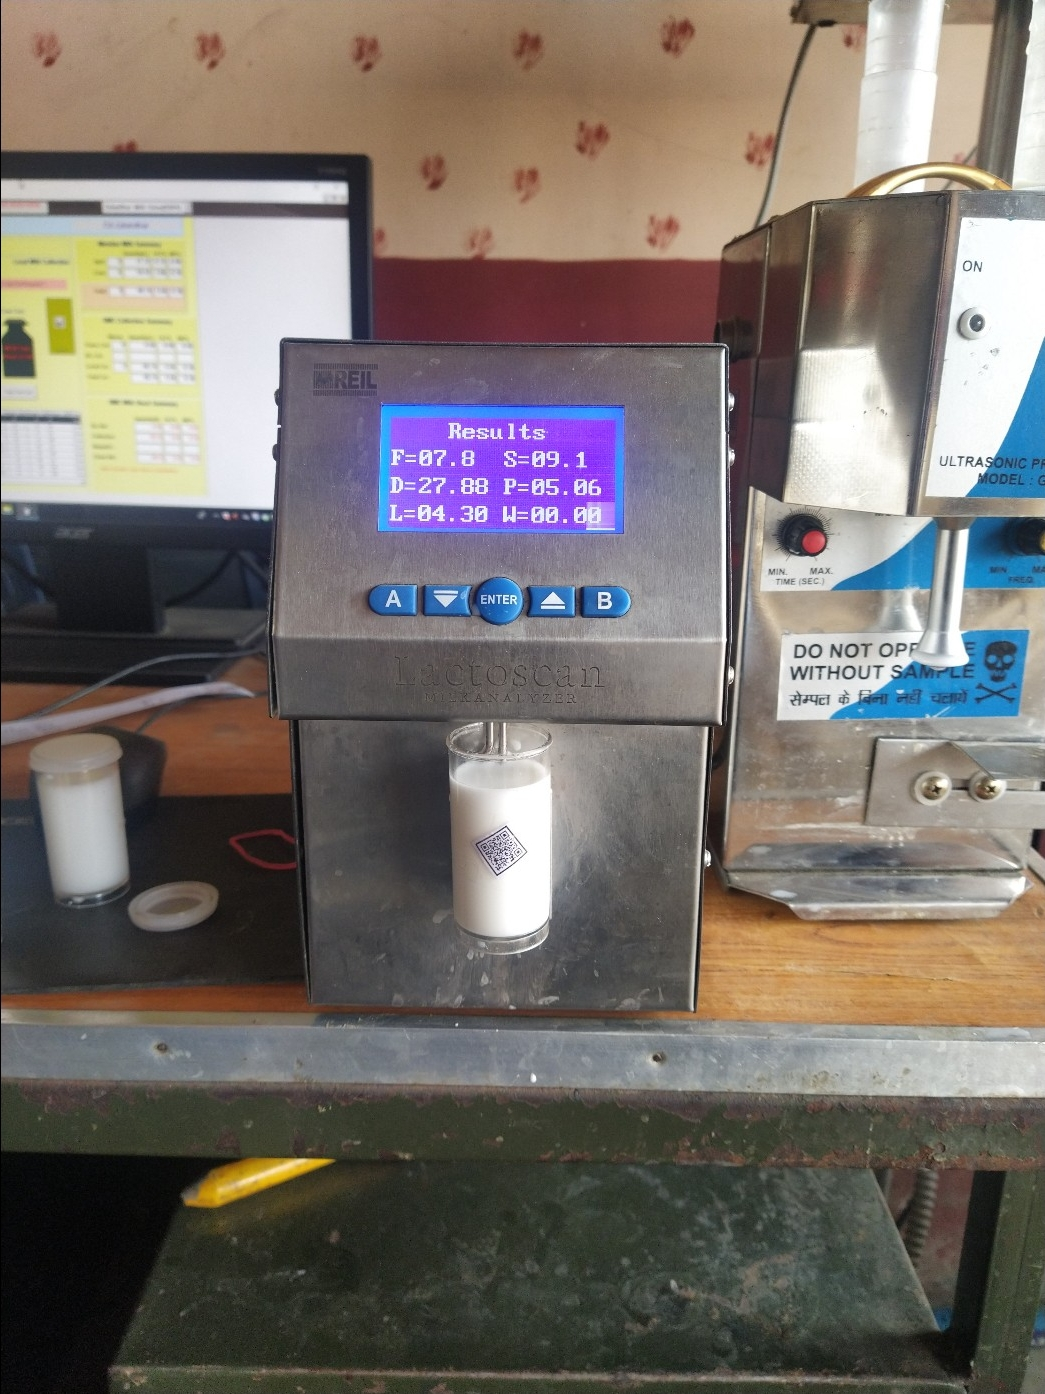lcd: (370, 392, 634, 552)
qr: (453, 813, 536, 896)
